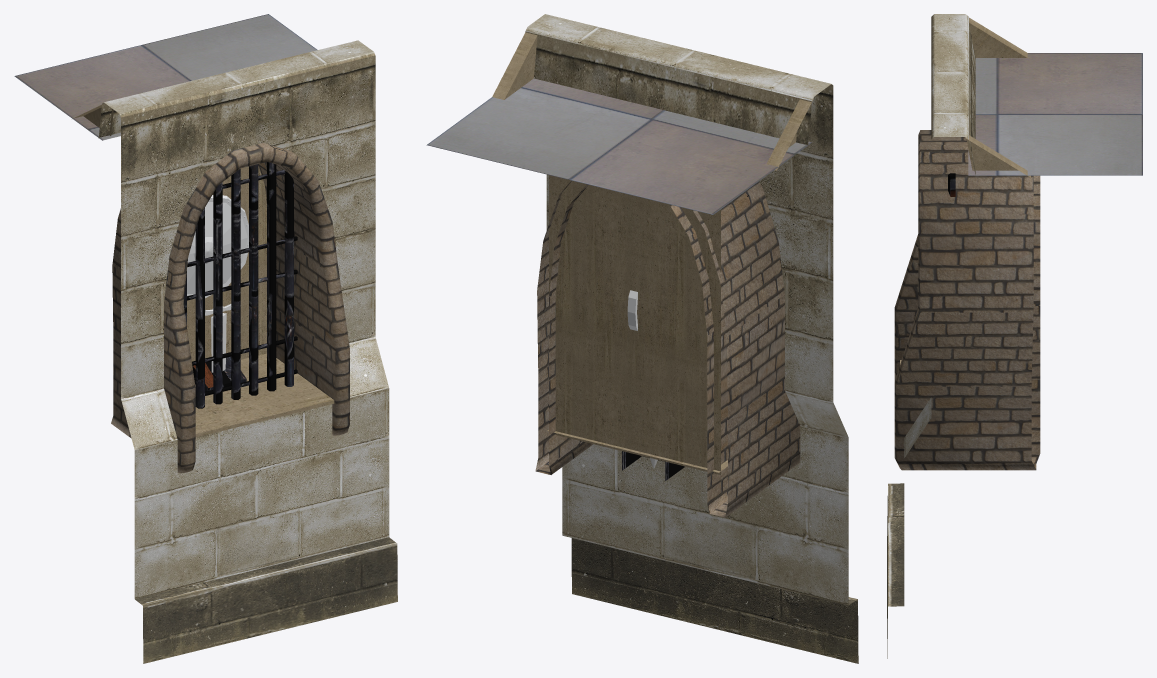
File: castle-wall-w-window-big.fbx
The picture shows the model from 3 angles, left to right: view 1: azimuth 30°, elevation 25°; view 2: azimuth 150°, elevation 25°; view 3: azimuth 270°, elevation 25°; orthographic projection. The views are drawn at different scales.
Parts seen in each view (by area): view 1: castle-wall-w-window-big; view 2: castle-wall-w-window-big; view 3: castle-wall-w-window-big.
Part boxes in pixels (<box>): castle-wall-w-window-big: <box>14,14,397,663</box>; castle-wall-w-window-big: <box>426,14,858,663</box>; castle-wall-w-window-big: <box>887,14,1142,658</box>.
Size of the model in its own units: 200 by 400 by 176.
